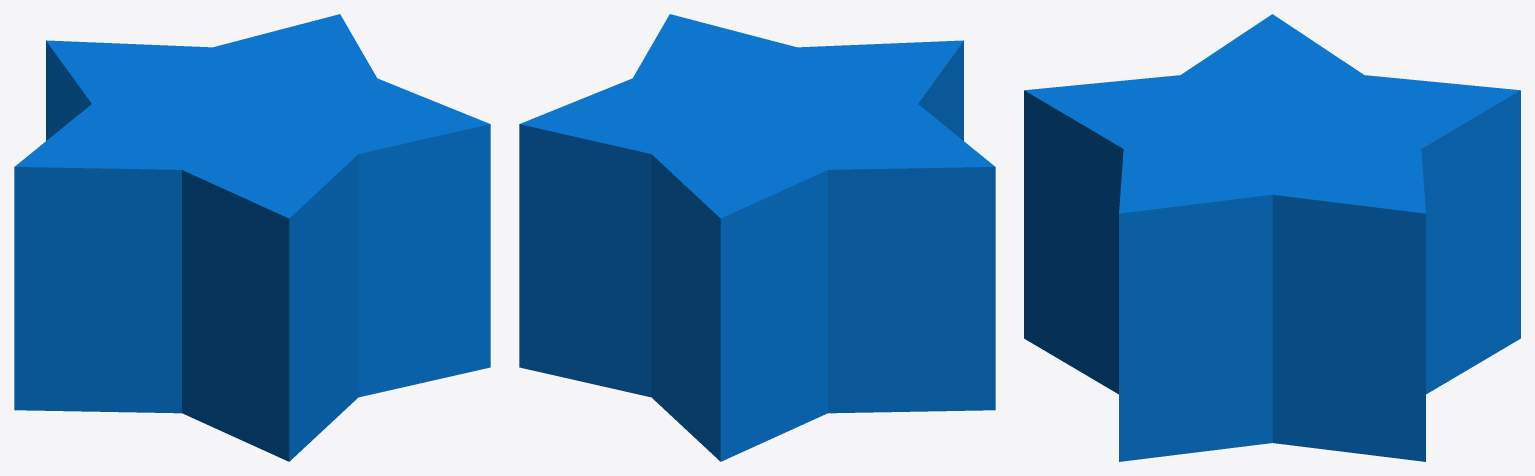
The model's file is asiba_7.fbx.
The picture shows the model from 3 angles, left to right: view 1: azimuth 30°, elevation 25°; view 2: azimuth 150°, elevation 25°; view 3: azimuth 270°, elevation 25°; orthographic projection. The views are drawn at different scales.
Visible parts, largest first — view 1: pCylinder1; view 2: pCylinder1; view 3: pCylinder1.
Boxes of the visible parts, x1,y1,x2,y2 form: pCylinder1: [14, 14, 490, 461]; pCylinder1: [519, 14, 995, 461]; pCylinder1: [1024, 14, 1520, 461].
Size of the model in its own units: 74.56 by 43.24 by 78.39.
